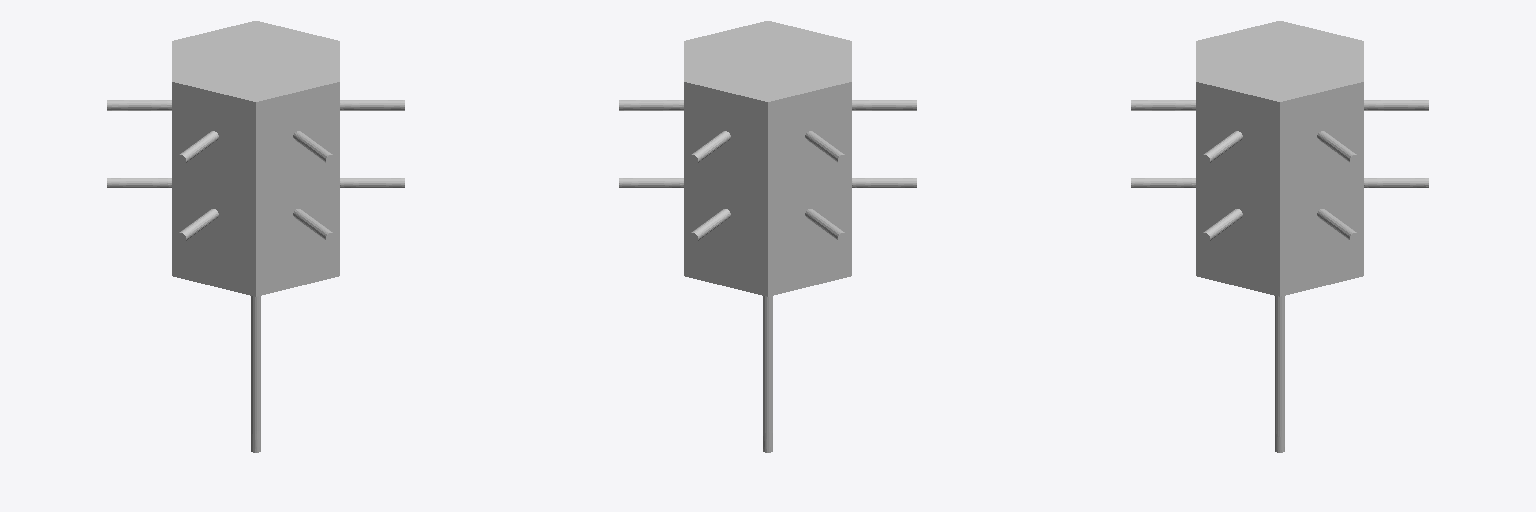
Rendered from barbot10.obj.
3 views of the same model, side by side, from view 1: azimuth 30°, elevation 25°; view 2: azimuth 150°, elevation 25°; view 3: azimuth 270°, elevation 25° (orthographic).
Bounding box in the file's own units: 24.54 × 40 × 27.75.